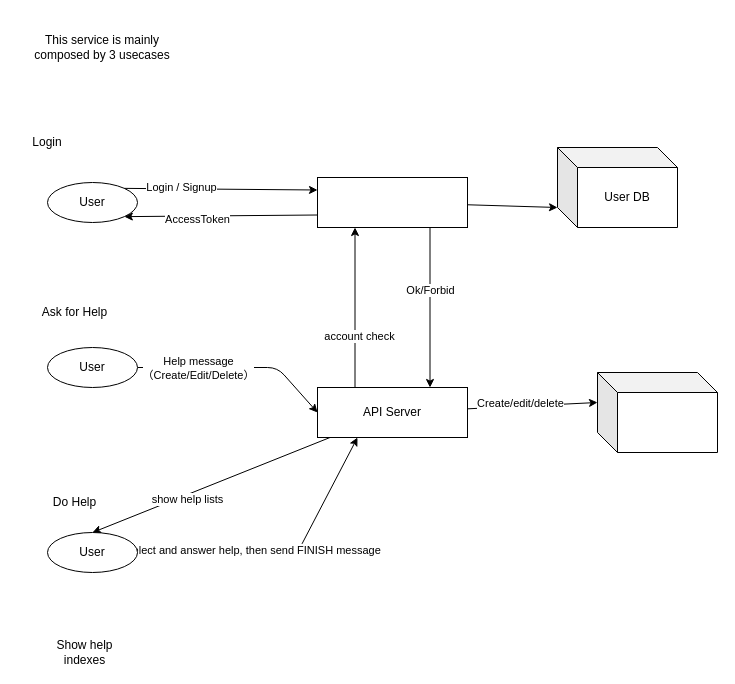
The diagram is 735 pixels wide and 684 high, and some of its shapes have lost their labels. Each missing label, with the box of its shape:
Help DB: (596, 372, 718, 452)
User Account Manager: (316, 176, 468, 228)
